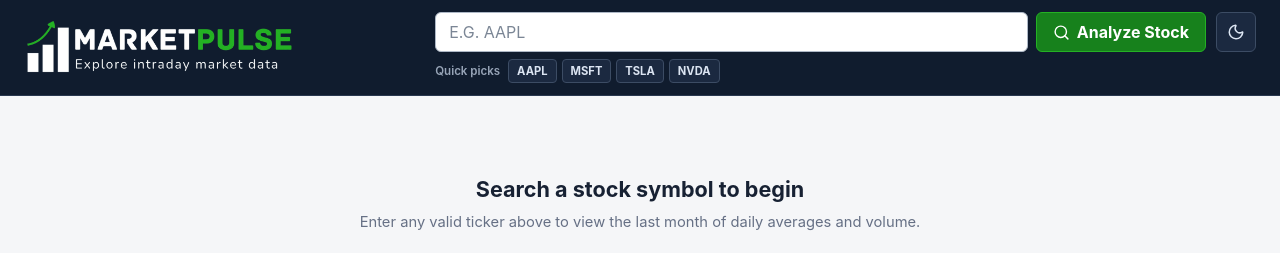
Test: MarketPulse app › renders a useful validation message for 400 responses
What coordinates should you click on to do the following:
click the button "AAPL"
I would click on:
 (532, 71)
Its box is [508,59,557,83].
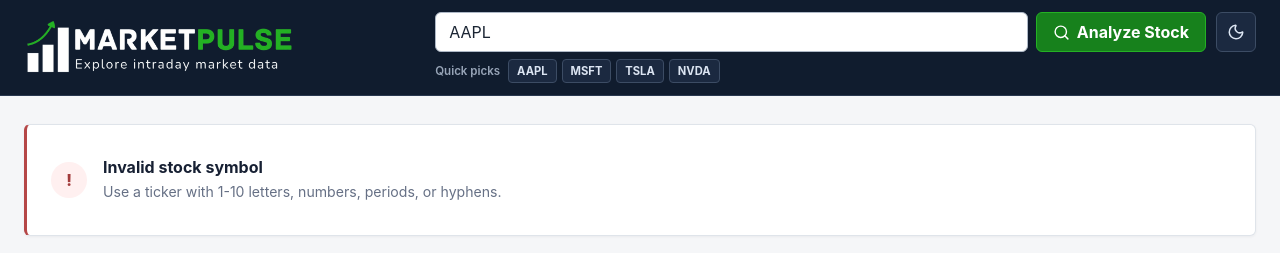
Now the message shows "Invalid stock symbol", box [103,157,263,177]
Now the message shows "Use a ticker with 1-10 letters, numbers, periods, or hyphens.", box [103,183,502,200]
